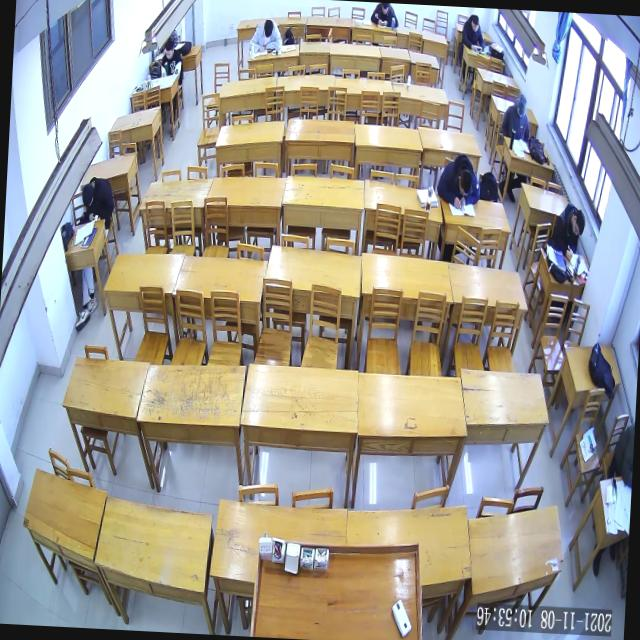bow: (435, 151, 482, 211), (248, 16, 284, 56), (370, 3, 400, 29)
down: (571, 208, 587, 240), (457, 169, 474, 198), (80, 182, 96, 212), (515, 94, 529, 121), (163, 38, 176, 61), (262, 18, 275, 40), (470, 14, 480, 34), (381, 4, 390, 16)
sit: (550, 200, 587, 263), (79, 172, 116, 228), (500, 92, 532, 141), (460, 13, 488, 53), (160, 37, 186, 80)
